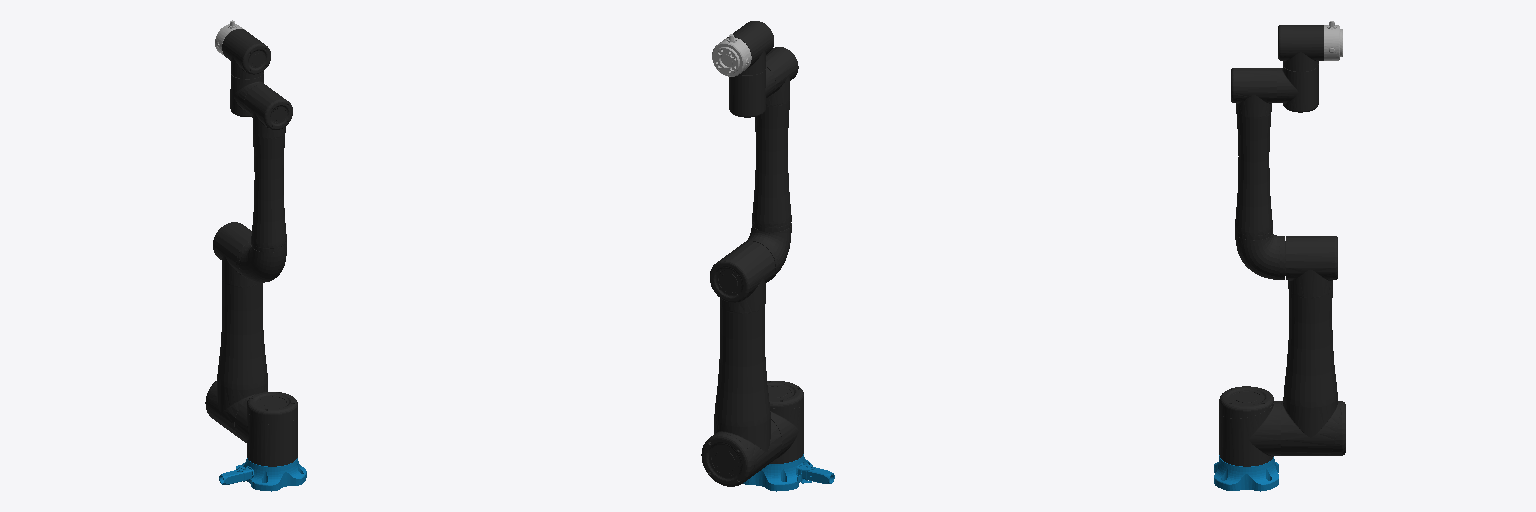
URDF robot description (orion5_v166):
<?xml version="1.0" ?>

<robot name="orion5_v166">

  <link name="world"/>

  <joint name="world_fixed_joint" type="fixed">
    <origin rpy="0 0 0" xyz="0.0 0.0 0.0"/>
    <parent link="world"/>
    <child link="base_link"/>
  </joint>

  <material name="black">
    <color rgba="0.2 0.2 0.2 1.0"/>
  </material>
  <material name="gray">
    <color rgba="0.7 0.7 0.7 1.0"/>
  </material>
  <material name="blue">
    <color rgba="0.1 0.5 0.7 1.0"/>
  </material>

  <link name="base_link">
    <inertial>
      <origin rpy="0 0 3.92699081" xyz="0.0014872 0.025681 0.0015954"/>
      <mass value="0.43234"/>
      <inertia ixx="0.00085424" ixy="-4.256E-07" ixz="1.7204E-05" iyy="0.0014489" iyz="-3.1849E-07" izz="0.00085002"/>
    </inertial>
    <visual>
      <origin rpy="0 0 3.92699081" xyz="0 0 0"/>
      <geometry>
        <mesh filename="package://orion5_description/meshes/base_link.STL"/>
      </geometry>
      <material name="blue">
      </material>
    </visual>
    <collision>
      <origin rpy="0 0 3.92699081" xyz="0 0 0"/>
      <geometry>
        <mesh filename="package://orion5_description/meshes/base_link.STL"/>
      </geometry>
    </collision>
  </link>

  <joint name="joint_1" type="revolute">
    <origin rpy="0 0 0.7853981" xyz="0 0 0.05375"/>
    <parent link="base_link"/>
    <child link="link_1"/>
    <axis xyz="0 0 -1"/>
    <limit effort="200" lower="-3.14" upper="3.14" velocity="1.57"/>
    <dynamics damping="0.1" friction="0.1"/>
  </joint>

  <link name="link_1">
    <inertial>
      <origin rpy="0 0 0" xyz="0.0032053 0.0032066 0.071258"/>
      <mass value="1.4977"/>
      <inertia ixx="0.0040548" ixy="-6.3827e-05" ixz="1.9488e-05" iyy="0.0040547" iyz="1.9457e-05" izz="0.003024"/>
    </inertial>
    <visual>
      <origin rpy="0 0 0" xyz="0 0 0"/>
      <geometry>
        <mesh filename="package://orion5_description/meshes/link_1.STL"/>
      </geometry>
      <material name="black">
      </material>
    </visual>
    <collision>
      <origin rpy="0 0 0" xyz="0 0 0"/>
      <geometry>
        <mesh filename="package://orion5_description/meshes/link_1.STL"/>
      </geometry>
    </collision>
  </link>

  <joint name="joint_2" type="revolute">
    <origin rpy="-1.5708 0 -0.7854" xyz="0.044371 0.044371 0.06825"/>
    <parent link="link_1"/>
    <child link="link_2"/>
    <axis xyz="0 0 -1"/>
    <limit effort="200" lower="-3.14" upper="3.14" velocity="1.57"/>
    <dynamics damping="0.1" friction="0.1"/>
  </joint>

  <link name="link_2">
    <inertial>
      <origin rpy="0 0 0" xyz="-0.011965 -0.20398 0.082482"/>
      <mass value="3.9537"/>
      <inertia ixx="0.14571" ixy="0.0011447" ixz="-8.9776e-05" iyy="0.0068268" iyz="-0.00039373" izz="0.14325"/>
    </inertial>
    <visual>
      <origin rpy="0 0 0" xyz="0 0 0"/>
      <geometry>
        <mesh filename="package://orion5_description/meshes/link_2.STL"/>
      </geometry>
      <material name="black">
      </material>
    </visual>
    <collision>
      <origin rpy="0 0 0" xyz="0 0 0"/>
      <geometry>
        <mesh filename="package://orion5_description/meshes/link_2.STL"/>
      </geometry>
    </collision>
  </link>

  <joint name="joint_3" type="revolute">
    <origin rpy="-3.1416 0 0" xyz="0 -0.421 0.02325"/>
    <parent link="link_2"/>
    <child link="link_3"/>
    <axis xyz="0 0 -1"/>
    <limit effort="200" lower="-2.8" upper="2.8" velocity="1.57"/>
    <dynamics damping="0.1" friction="0.1"/>
  </joint>

  <link name="link_3">
    <inertial>
      <origin rpy="0 0 0" xyz="-0.0003235 0.25691 0.062797"/>
      <mass value="1.0868"/>
      <inertia ixx="0.0084673" ixy="-4.0465e-05" ixz="-1.4163e-06" iyy="0.0014603" iyz="-0.00016568" izz="0.0081904"/>
    </inertial>
    <visual>
      <origin rpy="0 0 0" xyz="0 0 0"/>
      <geometry>
        <mesh filename="package://orion5_description/meshes/link_3.STL"/>
      </geometry>
      <material name="black">
      </material>
    </visual>
    <collision>
      <origin rpy="0 0 0" xyz="0 0 0"/>
      <geometry>
        <mesh filename="package://orion5_description/meshes/link_3.STL"/>
      </geometry>
    </collision>
  </link>

  <joint name="joint_4" type="revolute">
    <origin rpy="-3.1416 0 0" xyz="0 0.427 0.018"/>
    <parent link="link_3"/>
    <child link="link_4"/>
    <axis xyz="0 0 -1"/>
    <limit effort="200" lower="-3.14" upper="3.14" velocity="1.57"/>
    <dynamics damping="0.1" friction="0.1"/>
  </joint>

  <link name="link_4">
    <inertial>
      <origin rpy="0 0 0" xyz="0.00067229 -0.010802 0.051025"/>
      <mass value="0.50427"/>
      <inertia ixx="0.00065514" ixy="-1.9544e-06" ixz="1.7674e-07" iyy="0.00043345" iyz="2.2995e-06" izz="0.00063832"/>
    </inertial>
    <visual>
      <origin rpy="0 0 0" xyz="0 0 0"/>
      <geometry>
        <mesh filename="package://orion5_description/meshes/link_4.STL"/>
      </geometry>
      <material name="black">
      </material>
    </visual>
    <collision>
      <origin rpy="0 0 0" xyz="0 0 0"/>
      <geometry>
        <mesh filename="package://orion5_description/meshes/link_4.STL"/>
      </geometry>
    </collision>
  </link>

  <joint name="joint_5" type="revolute">
    <origin rpy="1.5708 -0.7854 0" xyz="0 -0.052 0.053"/>
    <parent link="link_4"/>
    <child link="link_5"/>
    <axis xyz="0 0 -1"/>
    <limit effort="200" lower="-3.14" upper="3.14" velocity="1.57"/>
    <dynamics damping="0.1" friction="0.1"/>
  </joint>

  <link name="link_5">
    <inertial>
      <origin rpy="0 0 0" xyz="-0.0023932 -0.0027963 0.046475"/>
      <mass value="0.23998"/>
      <inertia ixx="0.00019279" ixy="-1.1587e-05" ixz="1.866e-06" iyy="0.00019279" iyz="1.7368e-06" izz="0.00019816"/>
    </inertial>
    <visual>
      <origin rpy="0 0 0" xyz="0 0 0"/>
      <geometry>
        <mesh filename="package://orion5_description/meshes/link_5.STL"/>
      </geometry>
      <material name="black">
      </material>
    </visual>
    <collision>
      <origin rpy="0 0 0" xyz="0 0 0"/>
      <geometry>
        <mesh filename="package://orion5_description/meshes/link_5.STL"/>
      </geometry>
    </collision>
  </link>

  <joint name="joint_6" type="revolute">
    <origin rpy="-1.5708 0 -0.7854" xyz="0.031289 0.031289 0.053"/>
    <parent link="link_5"/>
    <child link="link_6"/>
    <axis xyz="0 0 -1"/>
    <limit effort="200" lower="-3.14" upper="3.14" velocity="1.57"/>
    <dynamics damping="0.1" friction="0.1"/>
  </joint>

  <link name="link_6">
    <inertial>
      <origin rpy="0 0 0" xyz="-0.00030609 -0.00064718 0.026501"/>
      <mass value="0.29836"/>
      <inertia ixx="9.0087e-05" ixy="2.945e-08" ixz="-1.0412e-07" iyy="8.7872e-05" iyz="-9.2359e-08" izz="0.00013295"/>
    </inertial>
    <visual>
      <origin rpy="0 0 0" xyz="0 0 0"/>
      <geometry>
        <mesh filename="package://orion5_description/meshes/link_6.STL"/>
      </geometry>
      <material name="gray">
      </material>
    </visual>
    <collision>
      <origin rpy="0 0 0" xyz="0 0 0"/>
      <geometry>
        <mesh filename="package://orion5_description/meshes/link_6.STL"/>
      </geometry>
    </collision>
  </link>

  <joint name="eef_fixed_joint" type="fixed">
    <origin rpy="0 0 0" xyz="0 0 0.047"/>
    <parent link="link_6"/>
    <child link="eef_link"/>
  </joint>

  <link name="eef_link">
    <inertial>
      <origin rpy="0 0 0" xyz="0 0 0"/>
      <mass value="0.00001"/>
      <inertia ixx="0" ixy="0" ixz="0" iyy="0" iyz="0" izz="0"/>
    </inertial>
  </link>

  <joint name="eef_tcp" type="fixed">
    <origin rpy="0 0 0" xyz="0 0 0"/>
    <parent link="eef_link"/>
    <child link="tcp_payload_link"/>
  </joint>

  <link name="tcp_payload_link">
    <inertial>
      <origin rpy="0 0 0" xyz="0 0 0"/>
      <mass value="0.0"/>
      <inertia ixx="0" ixy="0" ixz="0" iyy="0" iyz="0" izz="0"/>
    </inertial>
  </link>

  <!-- Gazebo Ros Transmission -->
  <transmission name="j1_transmission">
    <type>transmission_interface/SimpleTransmission</type>
    <joint name="joint_1">
      <hardwareInterface>hardware_interface/EffortJointInterface</hardwareInterface>
    </joint>
    <actuator name="j1_actuator">
      <hardwareInterface>hardware_interface/EffortJointInterface</hardwareInterface>
      <mechanicalReduction>1</mechanicalReduction>
    </actuator>
  </transmission>
  <transmission name="j2_transmission">
    <type>transmission_interface/SimpleTransmission</type>
    <joint name="joint_2">
      <hardwareInterface>hardware_interface/EffortJointInterface</hardwareInterface>
    </joint>
    <actuator name="j2_actuator">
      <hardwareInterface>hardware_interface/EffortJointInterface</hardwareInterface>
      <mechanicalReduction>1</mechanicalReduction>
    </actuator>
  </transmission>
  <transmission name="j3_transmission">
    <type>transmission_interface/SimpleTransmission</type>
    <joint name="joint_3">
      <hardwareInterface>hardware_interface/EffortJointInterface</hardwareInterface>
    </joint>
    <actuator name="j3_actuator">
      <hardwareInterface>hardware_interface/EffortJointInterface</hardwareInterface>
      <mechanicalReduction>1</mechanicalReduction>
    </actuator>
  </transmission>
  <transmission name="j4_transmission">
    <type>transmission_interface/SimpleTransmission</type>
    <joint name="joint_4">
      <hardwareInterface>hardware_interface/EffortJointInterface</hardwareInterface>
    </joint>
    <actuator name="j4_actuator">
      <hardwareInterface>hardware_interface/EffortJointInterface</hardwareInterface>
      <mechanicalReduction>1</mechanicalReduction>
    </actuator>
  </transmission>
  <transmission name="j5_transmission">
    <type>transmission_interface/SimpleTransmission</type>
    <joint name="joint_5">
      <hardwareInterface>hardware_interface/EffortJointInterface</hardwareInterface>
    </joint>
    <actuator name="j5_actuator">
      <hardwareInterface>hardware_interface/EffortJointInterface</hardwareInterface>
      <mechanicalReduction>1</mechanicalReduction>
    </actuator>
  </transmission>
  <transmission name="j6_transmission">
    <type>transmission_interface/SimpleTransmission</type>
    <joint name="joint_6">
      <hardwareInterface>hardware_interface/EffortJointInterface</hardwareInterface>
    </joint>
    <actuator name="j6_actuator">
      <hardwareInterface>hardware_interface/EffortJointInterface</hardwareInterface>
      <mechanicalReduction>1</mechanicalReduction>
    </actuator>
  </transmission>

  <!-- Gazebo ROS Control Plugin -->
  <gazebo>
    <plugin filename="libgazebo_ros_control.so" name="gazebo_ros_control"/>
  </gazebo>

  <!-- Gazebo Colors -->
  <gazebo reference="base_link">
    <material>Gazebo/SkyBlue</material>
    <mu1>0.2</mu1>
    <mu2>0.2</mu2>
    <selfCollide>true</selfCollide>
    <gravity>true</gravity>
  </gazebo>
  <gazebo reference="link_1">
    <material>Gazebo/DarkGray</material>
    <mu1>0.2</mu1>
    <mu2>0.2</mu2>
    <selfCollide>true</selfCollide>
  </gazebo>
  <gazebo reference="link_2">
    <material>Gazebo/DarkGray</material>
    <mu1>0.2</mu1>
    <mu2>0.2</mu2>
    <selfCollide>true</selfCollide>
  </gazebo>
  <gazebo reference="link_3">
    <material>Gazebo/DarkGray</material>
    <mu1>0.2</mu1>
    <mu2>0.2</mu2>
    <selfCollide>true</selfCollide>
  </gazebo>
  <gazebo reference="link_4">
    <material>Gazebo/DarkGray</material>
    <mu1>0.2</mu1>
    <mu2>0.2</mu2>
    <selfCollide>true</selfCollide>
  </gazebo>
  <gazebo reference="link_5">
    <material>Gazebo/DarkGray</material>
    <mu1>0.2</mu1>
    <mu2>0.2</mu2>
    <selfCollide>true</selfCollide>
  </gazebo>
  <gazebo reference="link_6">
    <material>Gazebo/Gray</material>
    <mu1>0.2</mu1>
    <mu2>0.2</mu2>
    <selfCollide>true</selfCollide>
  </gazebo>

</robot>

--- What the picture shows (computed from the rendered views, not written in the file) ---
3 views of the same robot in one strip: view 1: azimuth 30°, elevation 25°; view 2: azimuth 150°, elevation 25°; view 3: azimuth 270°, elevation 25° (orthographic).
Model orion5_v166 with 10 links and 9 joints (6 revolute, 3 fixed), rooted at world, posed every joint at zero.
Visible links, largest first — view 1: link_2, link_3, link_1, base_link, link_5, link_4; view 2: link_2, link_3, link_1, base_link, link_4, link_5, link_6; view 3: link_2, link_3, link_1, link_5, base_link, link_4, link_6.
Link boxes in pixels (<box>): link_2: <box>205,222,267,437</box>; link_3: <box>236,85,292,282</box>; link_1: <box>235,392,297,466</box>; base_link: <box>219,458,306,491</box>; link_5: <box>222,29,270,78</box>; link_4: <box>230,73,266,116</box>; link_2: <box>701,241,781,486</box>; link_3: <box>744,47,798,279</box>; link_1: <box>767,381,803,463</box>; base_link: <box>743,454,834,491</box>; link_4: <box>729,67,775,117</box>; link_5: <box>727,21,773,74</box>; link_6: <box>712,34,751,76</box>; link_2: <box>1281,236,1345,455</box>; link_3: <box>1231,68,1284,279</box>; link_1: <box>1219,386,1280,466</box>; link_5: <box>1278,25,1323,71</box>; base_link: <box>1214,455,1278,491</box>; link_4: <box>1277,64,1318,112</box>; link_6: <box>1324,21,1342,60</box>.
Bounding box of the posed robot: 0.2136 × 0.2948 × 1.13 m (x, y, z).
7 mesh visuals loaded from 7 distinct referenced files (7 binary STL).
